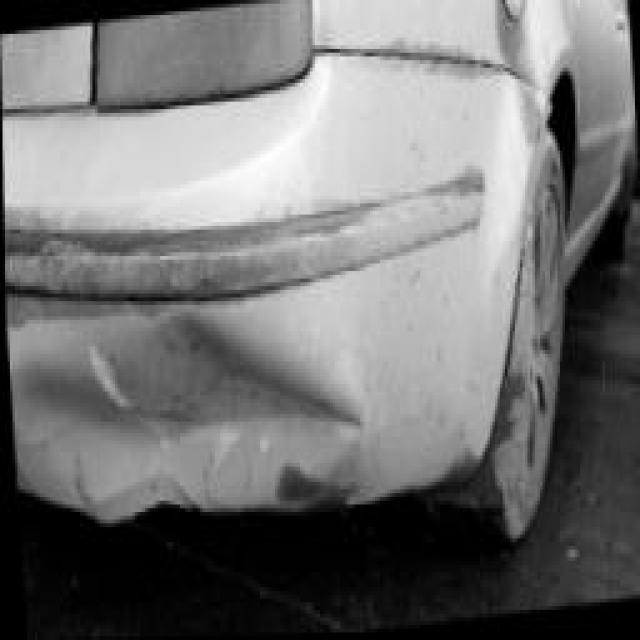Bumper: (2, 90, 520, 581)
